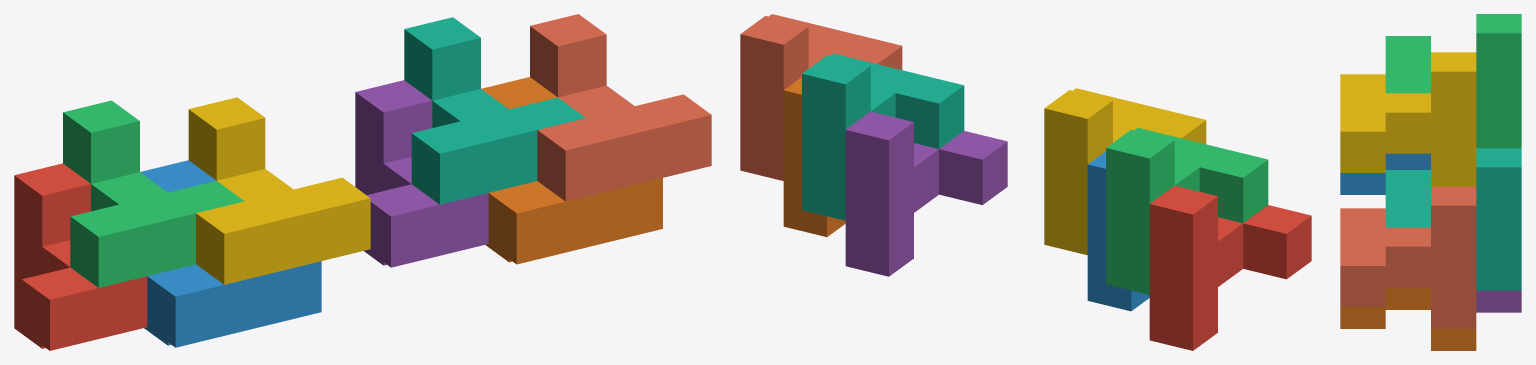
Rendered from tiling.obj.
3 views of the same model, side by side, from view 1: azimuth 30°, elevation 25°; view 2: azimuth 150°, elevation 25°; view 3: azimuth 270°, elevation 25° (orthographic). The views are drawn at different scales.
Parts seen in each view (by area): view 1: copy_1_domain_4, copy_1_domain_8, copy_1_domain_7, copy_1_domain_3, copy_1_domain_1, copy_1_domain_5, copy_1_domain_2, copy_1_domain_6; view 2: copy_1_domain_1, copy_1_domain_5, copy_1_domain_3, copy_1_domain_7, copy_1_domain_4, copy_1_domain_8, copy_1_domain_2, copy_1_domain_6; view 3: copy_1_domain_8, copy_1_domain_4, copy_1_domain_7, copy_1_domain_3, copy_1_domain_6, copy_1_domain_2, copy_1_domain_5.
Boxes of the visible parts, bbox=[...] form: copy_1_domain_4: bbox=[188, 97, 370, 284]; copy_1_domain_8: bbox=[530, 14, 711, 201]; copy_1_domain_7: bbox=[404, 17, 585, 204]; copy_1_domain_3: bbox=[63, 100, 244, 287]; copy_1_domain_1: bbox=[14, 163, 147, 350]; copy_1_domain_5: bbox=[355, 80, 488, 267]; copy_1_domain_2: bbox=[140, 160, 321, 347]; copy_1_domain_6: bbox=[481, 77, 662, 264]; copy_1_domain_1: bbox=[1149, 185, 1311, 350]; copy_1_domain_5: bbox=[845, 111, 1007, 276]; copy_1_domain_3: bbox=[1106, 128, 1268, 294]; copy_1_domain_7: bbox=[802, 53, 964, 220]; copy_1_domain_4: bbox=[1044, 88, 1206, 255]; copy_1_domain_8: bbox=[740, 14, 902, 180]; copy_1_domain_2: bbox=[1087, 151, 1149, 311]; copy_1_domain_6: bbox=[783, 77, 845, 236]; copy_1_domain_8: bbox=[1340, 186, 1476, 328]; copy_1_domain_4: bbox=[1340, 52, 1476, 186]; copy_1_domain_7: bbox=[1385, 148, 1521, 290]; copy_1_domain_3: bbox=[1385, 14, 1521, 148]; copy_1_domain_6: bbox=[1340, 288, 1476, 350]; copy_1_domain_2: bbox=[1340, 153, 1430, 194]; copy_1_domain_5: bbox=[1476, 290, 1521, 312].
Bounding box in the file's own units: 13 × 4 × 4.
